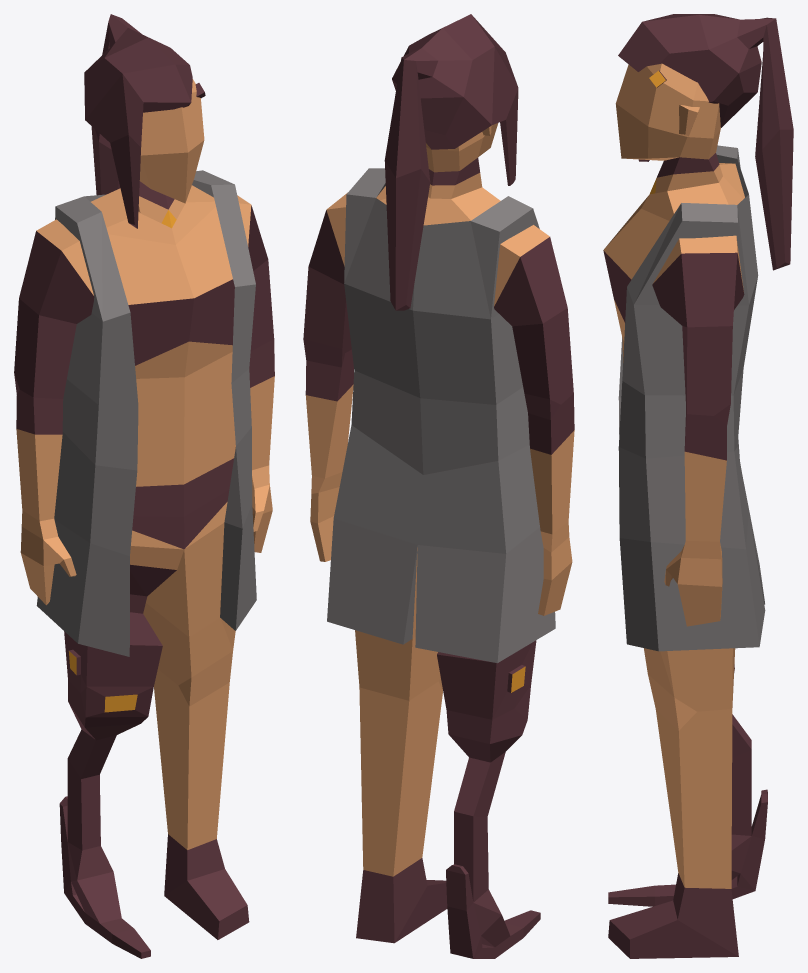
File: woman-scifi-prosthetic-leg.fbx
3 views of the same model, side by side, from view 1: azimuth 30°, elevation 25°; view 2: azimuth 150°, elevation 25°; view 3: azimuth 270°, elevation 25° (orthographic). The views are drawn at different scales.
Visible parts, largest first — view 1: woman-scifi-prosthetic-leg; view 2: woman-scifi-prosthetic-leg; view 3: woman-scifi-prosthetic-leg.
Boxes of the visible parts, x1,y1,x2,y2 form: woman-scifi-prosthetic-leg: (14, 14, 274, 958); woman-scifi-prosthetic-leg: (303, 14, 574, 958); woman-scifi-prosthetic-leg: (603, 14, 793, 958).
Bounding box in the file's own units: 0.5327 × 1.84 × 0.3499.
